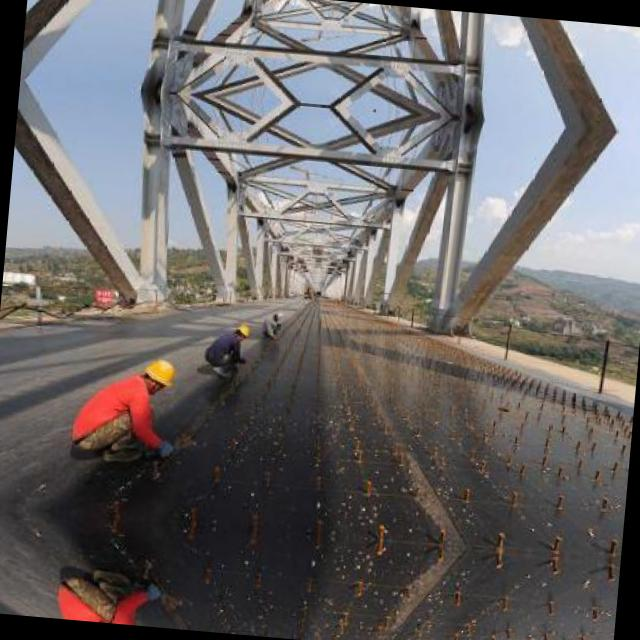helmet: (138, 354, 178, 394), (232, 321, 250, 339)
